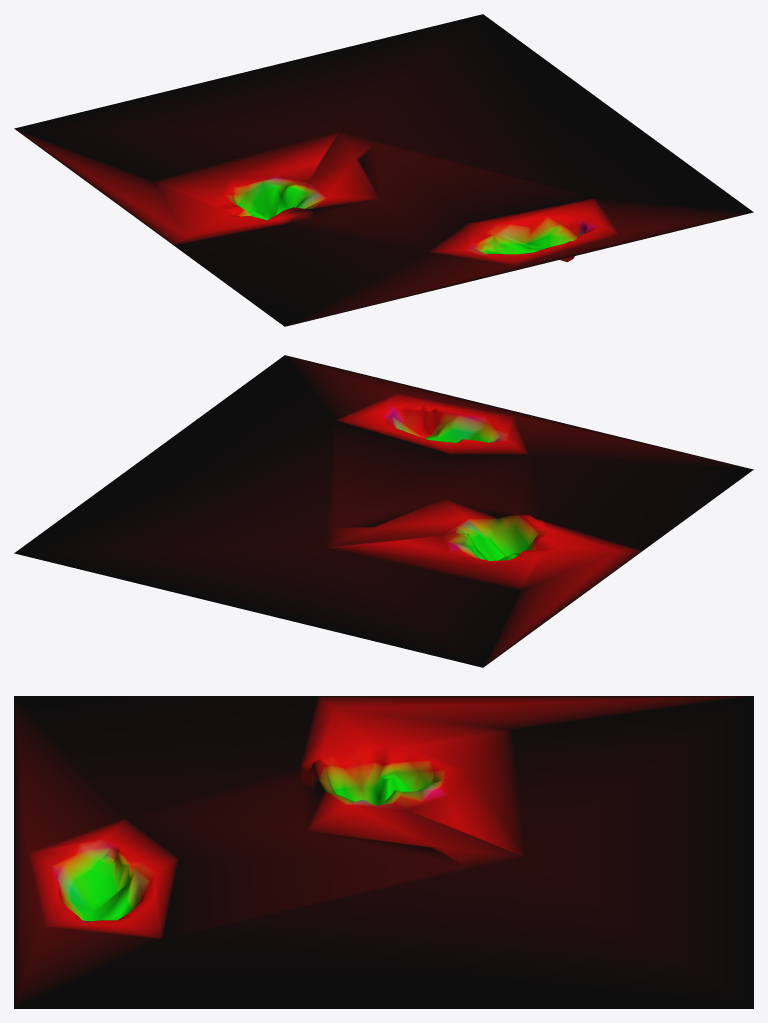
Rendered from SM_Urb_Roa_Asphalt_01.FBX.
The picture shows the model from 3 angles, top to bottom: view 1: azimuth 30°, elevation 25°; view 2: azimuth 150°, elevation 25°; view 3: azimuth 270°, elevation 25°; orthographic projection. The views are drawn at different scales.
Visible parts, largest first — view 1: SM_Urb_Roa_Asphalt_01; view 2: SM_Urb_Roa_Asphalt_01; view 3: SM_Urb_Roa_Asphalt_01.
Boxes of the visible parts, left/top/right/bottom form: SM_Urb_Roa_Asphalt_01: left=14, top=14, right=753, bottom=326; SM_Urb_Roa_Asphalt_01: left=14, top=355, right=753, bottom=667; SM_Urb_Roa_Asphalt_01: left=14, top=696, right=753, bottom=1008.
Size of the model in its own units: 306 by 306 by 25.
